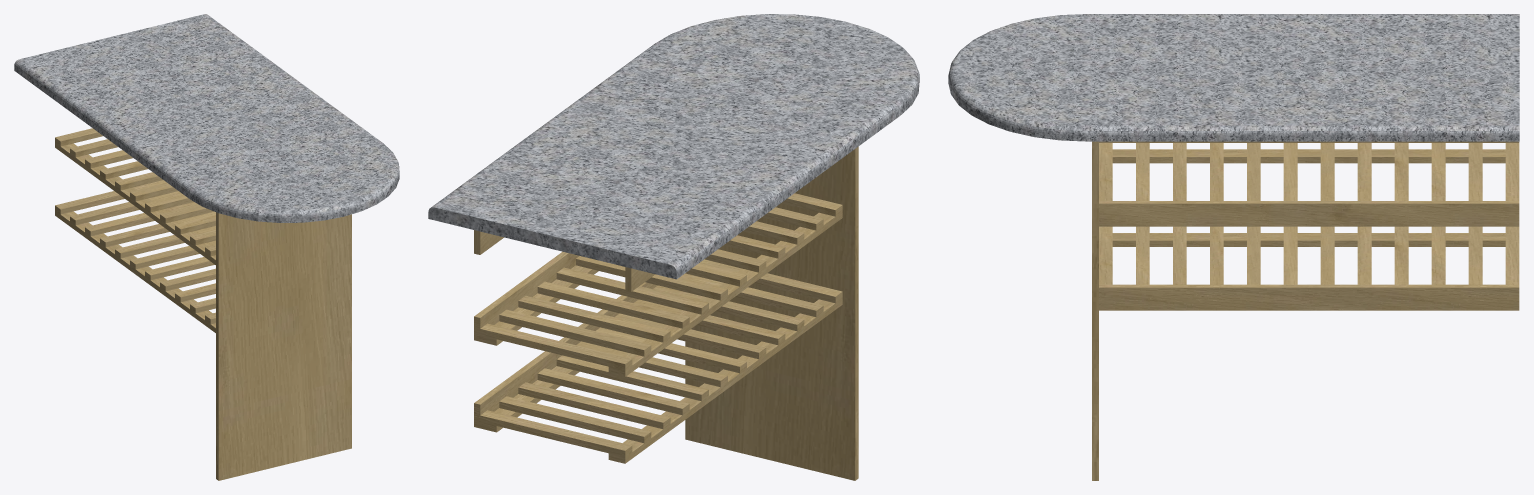
The model's file is b0-islandextension.glb.
The picture shows the model from 3 angles, left to right: view 1: azimuth 30°, elevation 25°; view 2: azimuth 150°, elevation 25°; view 3: azimuth 270°, elevation 25°; orthographic projection. The views are drawn at different scales.
Parts seen in each view (by area): view 1: Cube.003_Cube.004; view 2: Cube.003_Cube.004; view 3: Cube.003_Cube.004.
Boxes of the visible parts, left/top/right/bottom form: Cube.003_Cube.004: left=14, top=14, right=399, bottom=480; Cube.003_Cube.004: left=428, top=14, right=919, bottom=480; Cube.003_Cube.004: left=948, top=14, right=1519, bottom=480.
Bounding box in the file's own units: 0.6 × 0.8851 × 1.24.
Materials: 2 (2 with a texture image).
